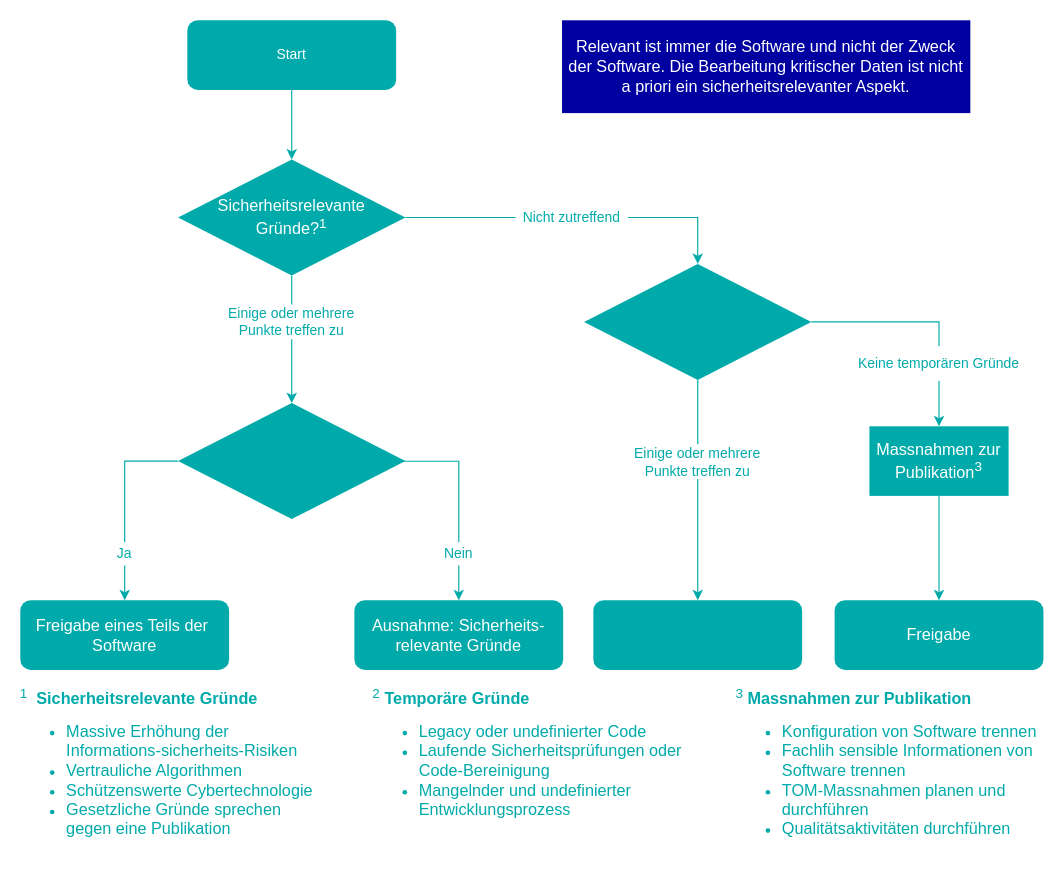
This 1063x872 diagram has some shape labels left out. Here are the shapes that lost their labels. From the top down, the centre of each, then its label:
At point 697,321: "Temporäre Gründe? 2".
At point 291,461: "Sicherheits- relevante Software entkoppelbar?".
At point 697,634: "Temporäre Ausnahme".
